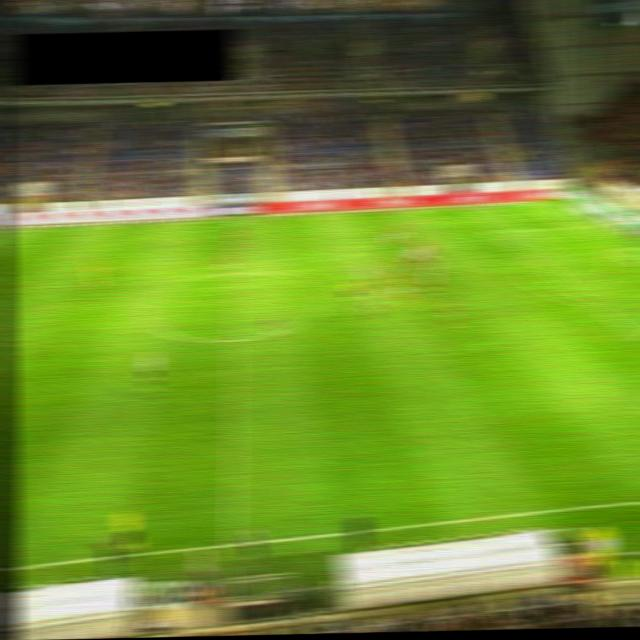bigarea_top_inner: (483, 226, 504, 237)
bigarea_top_outter: (591, 221, 612, 233)
bottom_arc_area_intersection: (583, 300, 605, 312)
corner: (545, 199, 566, 211)
halfcircle_bottom: (224, 335, 244, 347)
halfcircle_top: (225, 266, 245, 278)
midline_bottom_intersection: (222, 536, 246, 553)
midline_top_intersection: (225, 214, 247, 225)
smallarea_top_inner: (599, 244, 620, 256)
top_arc_area_intersection: (522, 253, 543, 264)
